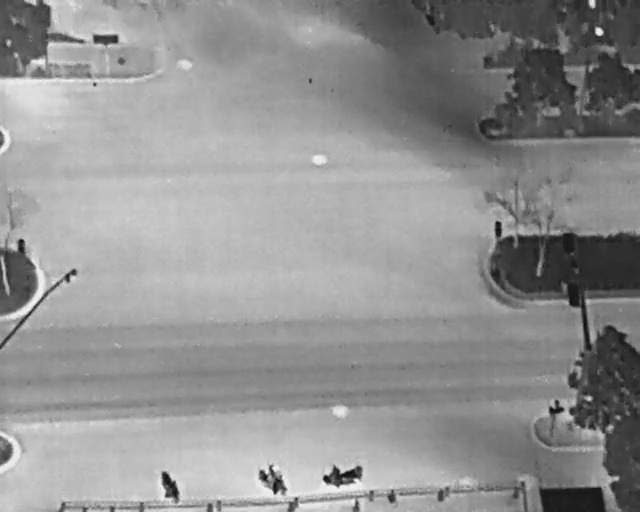Bicycle: (318, 461, 367, 491), (153, 467, 185, 507), (257, 463, 288, 496)
